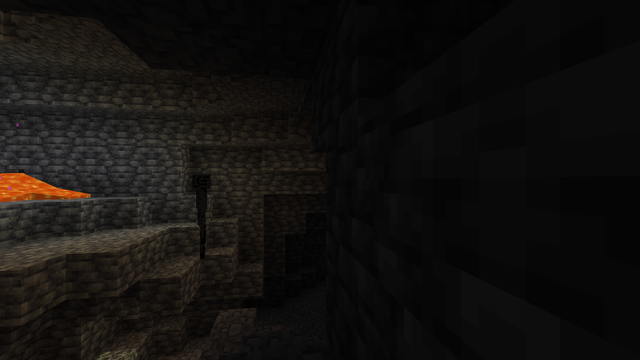endermens: (189, 171, 212, 257)
